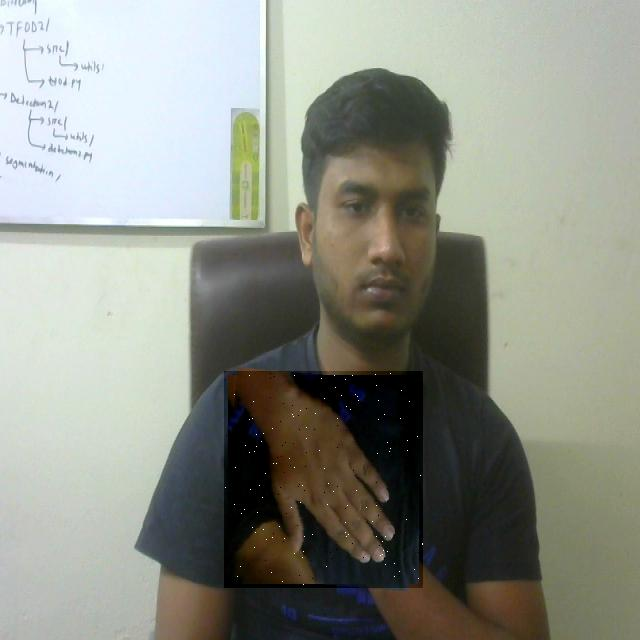Please: (224, 371, 423, 588)
